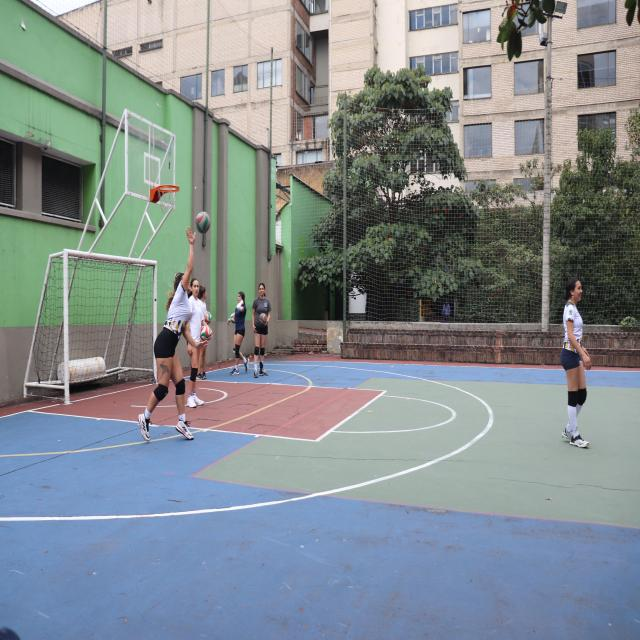volleyball: (194, 211, 210, 234), (201, 326, 210, 341), (204, 311, 212, 323), (259, 313, 267, 325), (230, 312, 236, 324)
